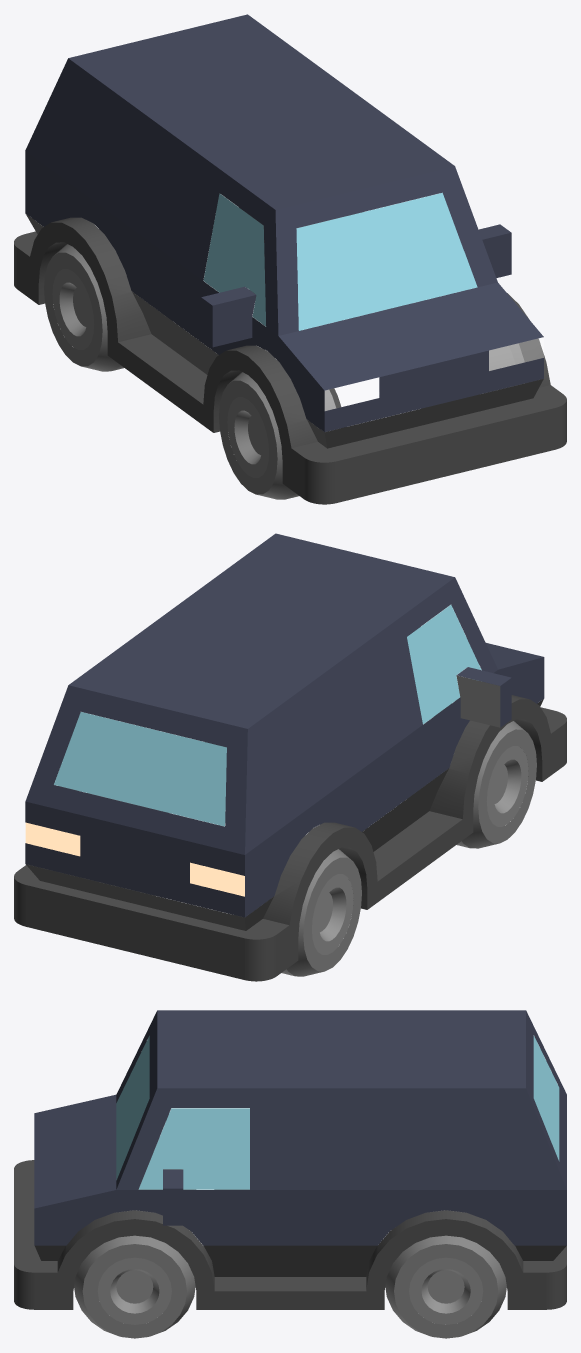
File: Van.glb
3 renders of one model, top to bottom at view 1: azimuth 30°, elevation 25°; view 2: azimuth 150°, elevation 25°; view 3: azimuth 270°, elevation 25°, orthographic. The views are drawn at different scales.
Visible parts, largest first — view 1: body, wheel_frontRight, wheel_backRight, wheel_frontLeft; view 2: body, wheel_backRight, wheel_frontRight; view 3: body, wheel_frontLeft, wheel_backLeft.
Part boxes in pixels (x1=…): body: x1=14, y1=14, x2=566, y2=504; wheel_frontRight: x1=219, y1=360, x2=336, y2=499; wheel_backRight: x1=44, y1=244, x2=123, y2=371; wheel_frontLeft: x1=427, y1=343, x2=524, y2=407; body: x1=14, y1=533, x2=566, y2=981; wheel_backRight: x1=241, y1=849, x2=361, y2=976; wheel_frontRight: x1=456, y1=721, x2=536, y2=848; body: x1=14, y1=1010, x2=566, y2=1309; wheel_frontLeft: x1=74, y1=1210, x2=195, y2=1338; wheel_backLeft: x1=385, y1=1210, x2=506, y2=1338.
Size of the model in its own units: 1.8 by 1.56 by 3.24.
